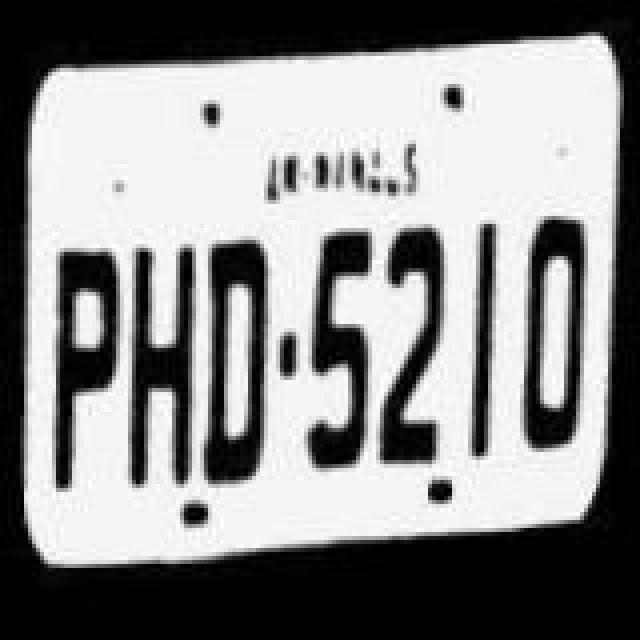1: (462, 220, 514, 476)
2: (376, 212, 448, 480)
5: (302, 220, 378, 480)
D: (194, 228, 270, 496)
H: (120, 226, 200, 490)
O: (514, 210, 594, 454)
P: (36, 230, 124, 490)
